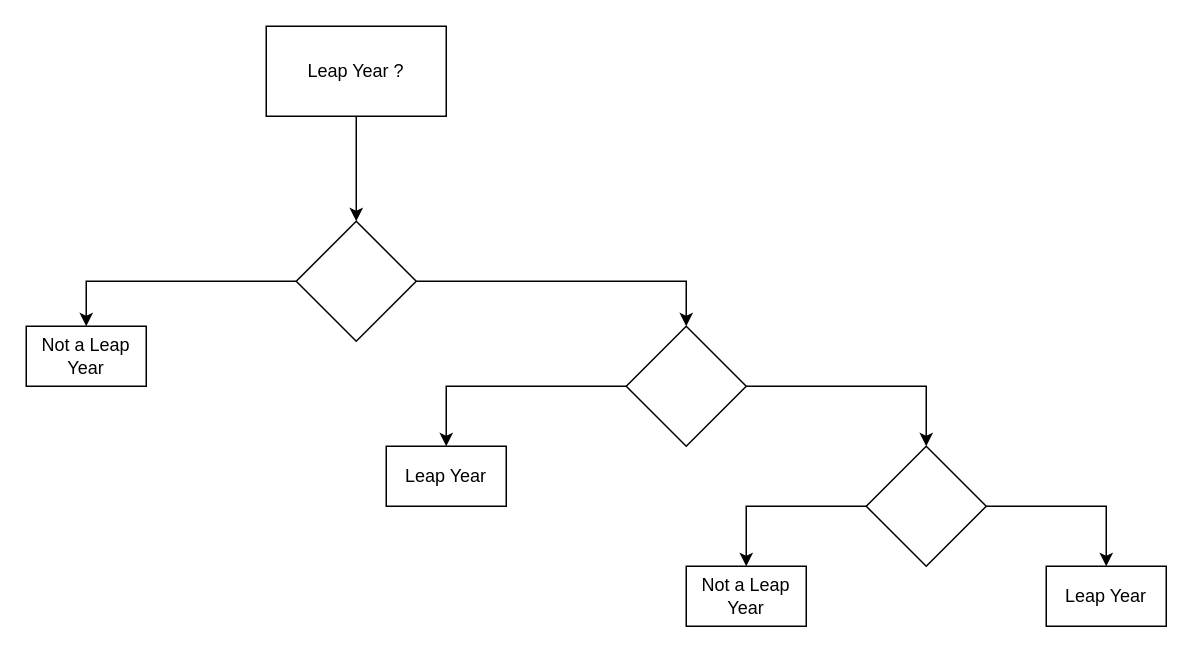
Image size: 1193x653. Some labels were removed from this diagram. Each missing label, with the centre of its shape:
"Year/100" goes at pixel 685 385.
"Year/4" goes at pixel 355 280.
"Year/400" goes at pixel 925 505.
